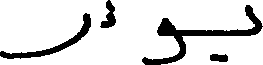ب: (207, 2, 261, 63)
ذ: (100, 0, 117, 29)
ر: (0, 11, 91, 59)
و: (141, 16, 184, 64)
